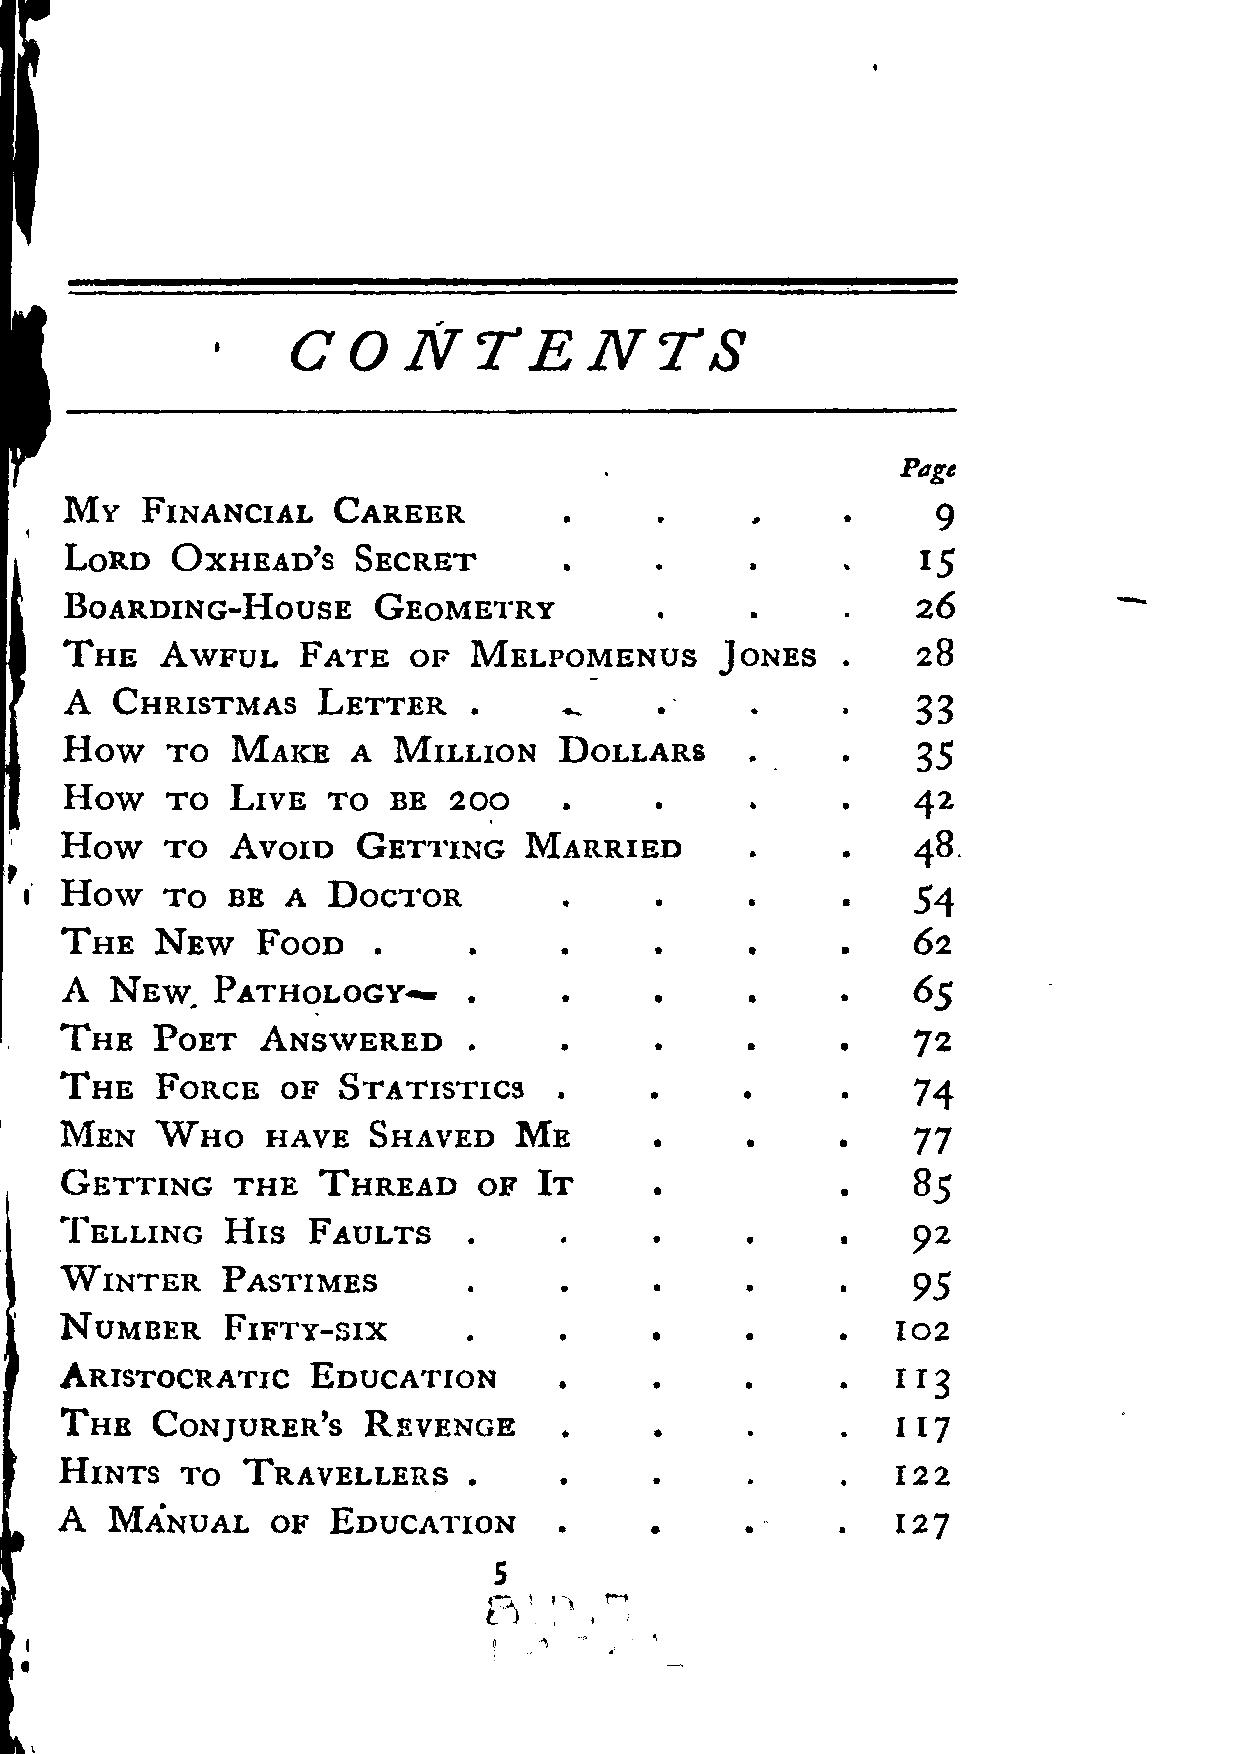TOC_chapter: (56, 633, 819, 718), (60, 729, 706, 766), (56, 828, 684, 862), (60, 1113, 573, 1150), (55, 1162, 573, 1198), (62, 586, 558, 623), (54, 1500, 519, 1537), (60, 778, 510, 815), (54, 1451, 458, 1491), (54, 1358, 499, 1393), (56, 1405, 517, 1439), (54, 1210, 435, 1251), (62, 538, 480, 574), (56, 875, 467, 911), (56, 1070, 527, 1100), (60, 491, 467, 526), (55, 1020, 446, 1055), (54, 1308, 389, 1346), (56, 970, 404, 1007), (55, 1259, 385, 1296), (56, 922, 348, 960)
TOC_pagenumber: (888, 1365, 954, 1402), (911, 970, 958, 1015), (892, 1414, 951, 1448), (891, 1510, 949, 1542), (913, 828, 954, 870), (894, 1461, 951, 1491), (913, 737, 957, 774), (917, 542, 955, 582), (913, 884, 953, 923), (891, 1317, 949, 1343), (911, 1166, 951, 1204), (915, 633, 955, 670), (915, 690, 955, 726), (914, 1027, 955, 1062), (910, 1076, 951, 1111), (910, 1125, 951, 1159), (909, 789, 955, 820), (913, 589, 957, 621), (911, 1223, 951, 1257), (911, 1268, 951, 1303), (911, 925, 955, 956), (929, 502, 960, 533)
chapter: (282, 318, 753, 377)
content_pagenumber: (486, 1551, 511, 1585)
